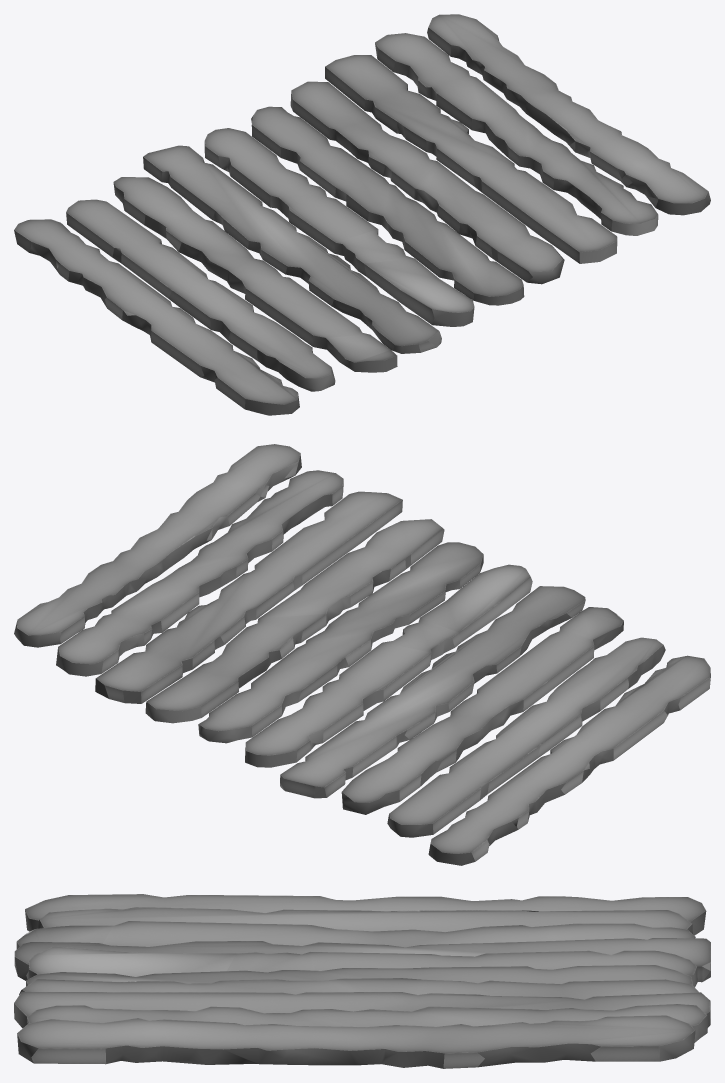
Rendered from MESH_Steps.glb.
3 renders of one model, top to bottom at view 1: azimuth 30°, elevation 25°; view 2: azimuth 150°, elevation 25°; view 3: azimuth 270°, elevation 25°, orthographic. The views are drawn at different scales.
Visible parts, largest first — view 1: MESH_StoneSteps; view 2: MESH_StoneSteps; view 3: MESH_StoneSteps.
Boxes of the visible parts, <box> form: MESH_StoneSteps: <box>14,14,710,415</box>; MESH_StoneSteps: <box>14,444,710,865</box>; MESH_StoneSteps: <box>14,894,710,1068</box>.
Bounding box in the file's own units: 4.27 × 1.09 × 4.27.
1 material, 1 textured.
